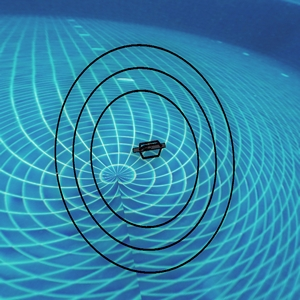circle: (42, 22, 245, 275)
